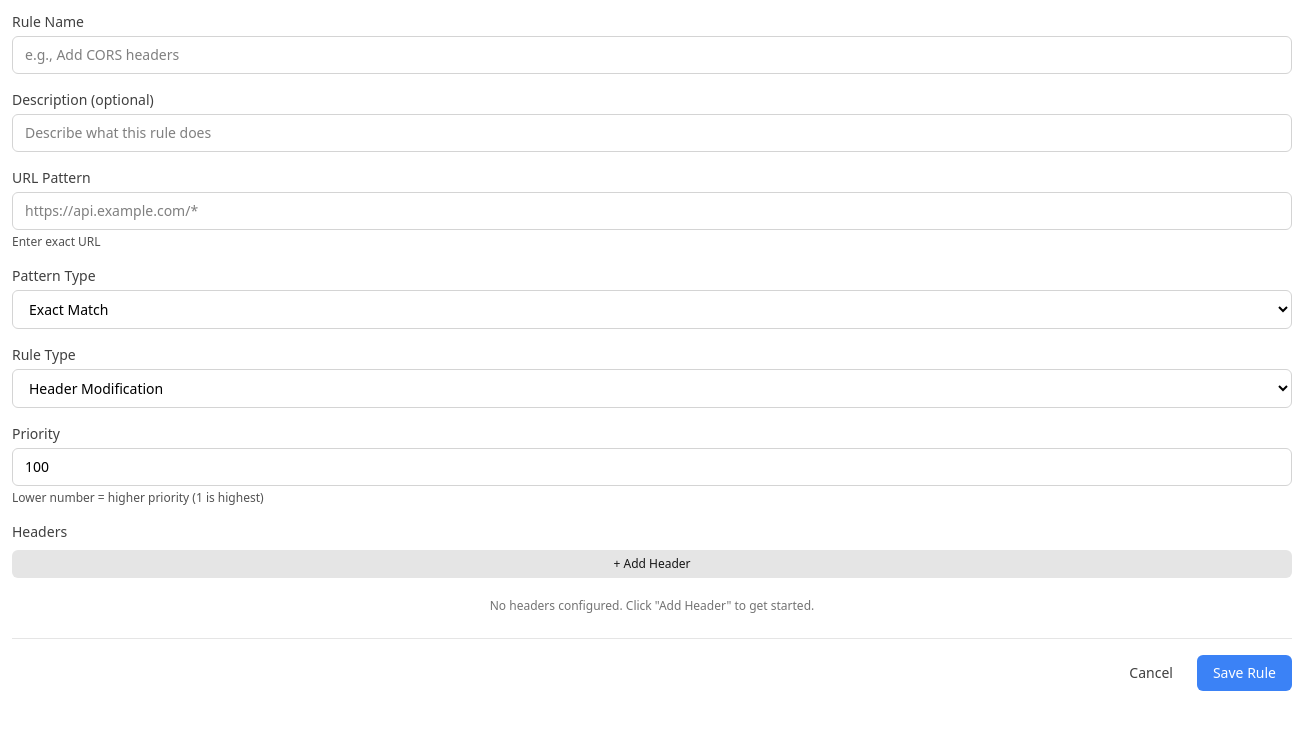
it: RuleEditor › Validation › should require rule name
Click the button "Save Rule": (1244, 673) [1197,655,1292,691]
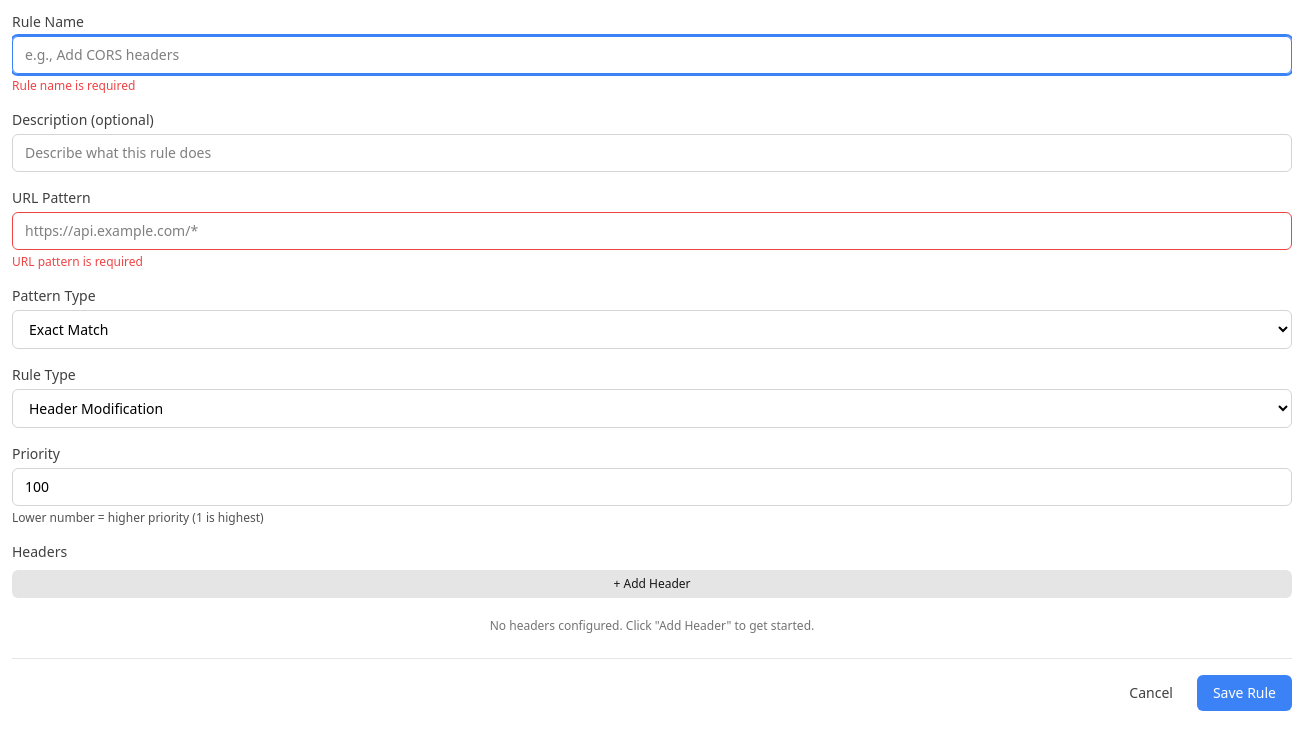
Now the text "Rule name is required" is shown, box [12,77,135,94]
